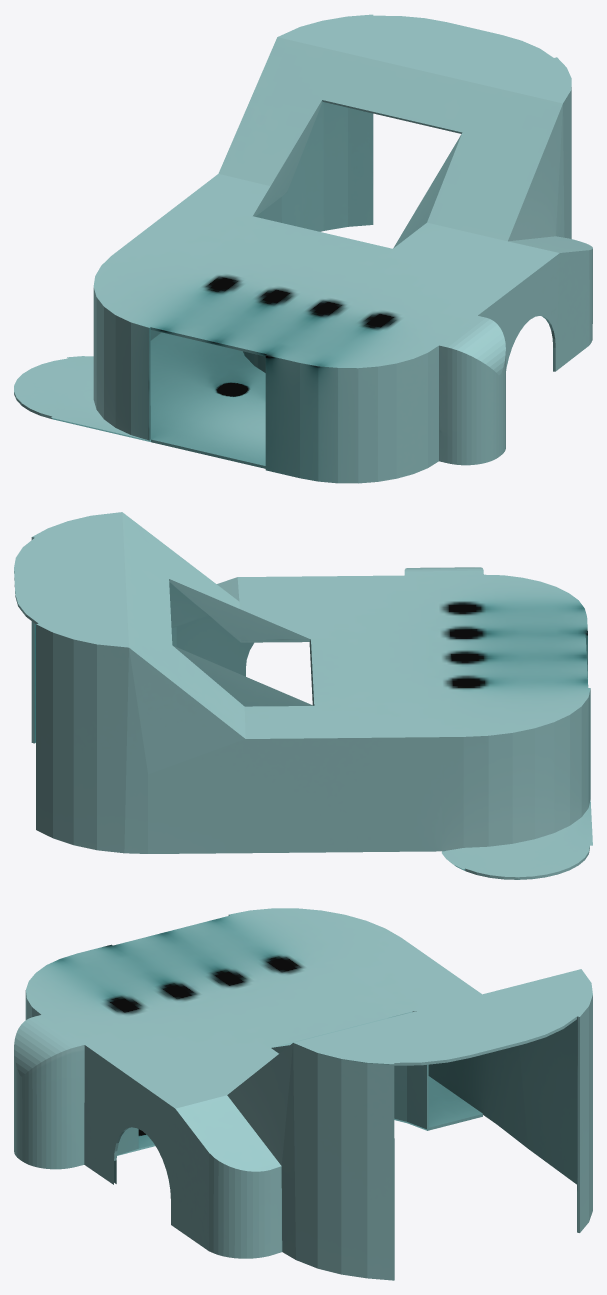
Rendered from structure_upper.glb.
3 renders of one model, top to bottom at view 1: azimuth 30°, elevation 25°; view 2: azimuth 150°, elevation 25°; view 3: azimuth 270°, elevation 25°, orthographic. The views are drawn at different scales.
Visible parts, largest first — view 1: Structure.upper; view 2: Structure.upper; view 3: Structure.upper.
Boxes of the visible parts, x1,y1,x2,y2 form: Structure.upper: [14, 14, 592, 483]; Structure.upper: [14, 512, 592, 879]; Structure.upper: [14, 908, 592, 1280].
Size of the model in its own units: 20.79 by 7.62 by 18.5.
Materials: 1 (1 with a texture image).
